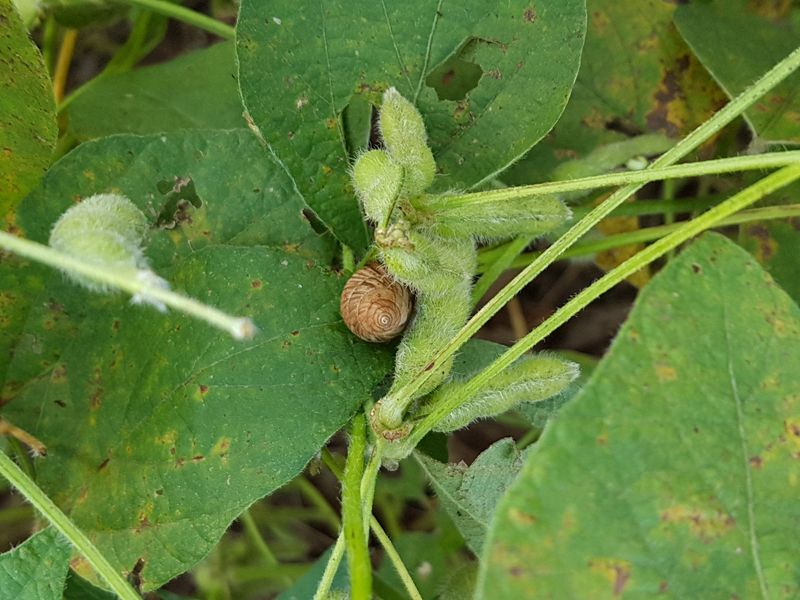Gastropoda: (328, 254, 426, 357)
